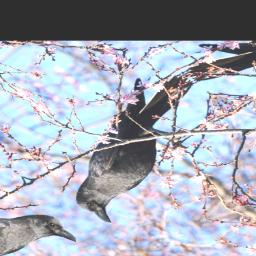Crow: (5, 63, 256, 227)
